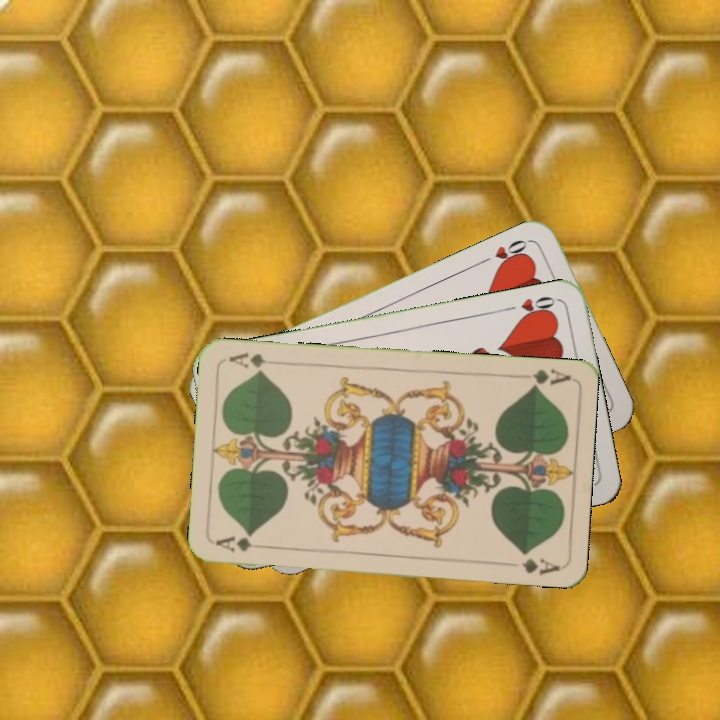GA: (212, 532, 271, 555), (526, 365, 572, 391)
HO: (476, 235, 532, 271), (501, 292, 559, 322)
